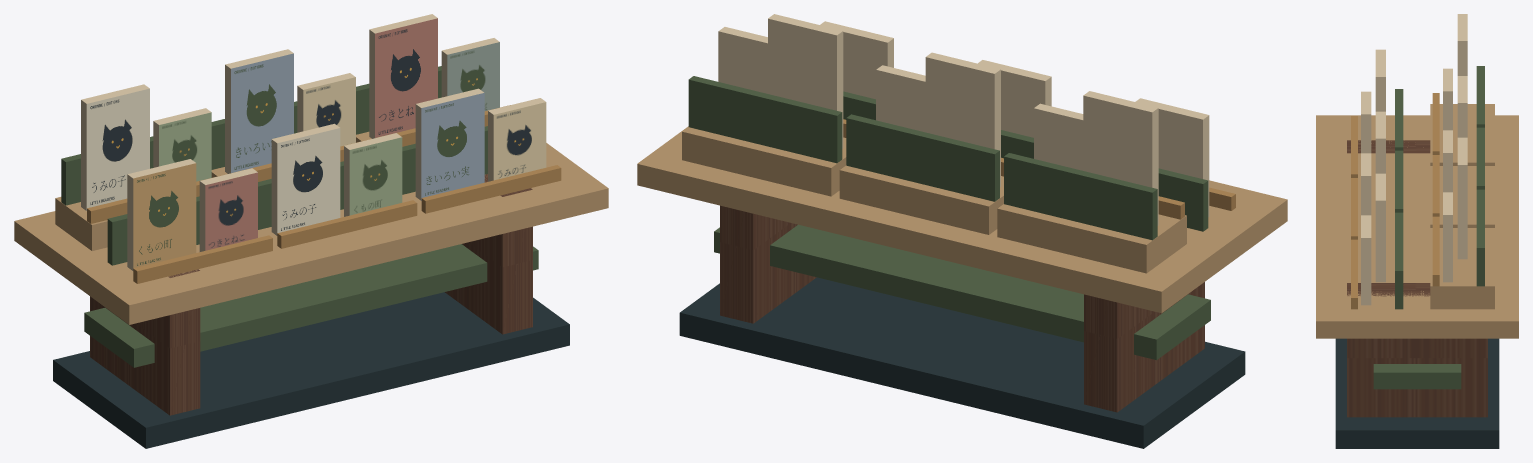
Rendered from orienne_junior_island.glb.
3 views of the same model, side by side, from view 1: azimuth 30°, elevation 25°; view 2: azimuth 150°, elevation 25°; view 3: azimuth 270°, elevation 25° (orthographic). The views are drawn at different scales.
Size of the model in its own units: 1.73 by 1.01 by 0.72.
1 material, 1 textured.
